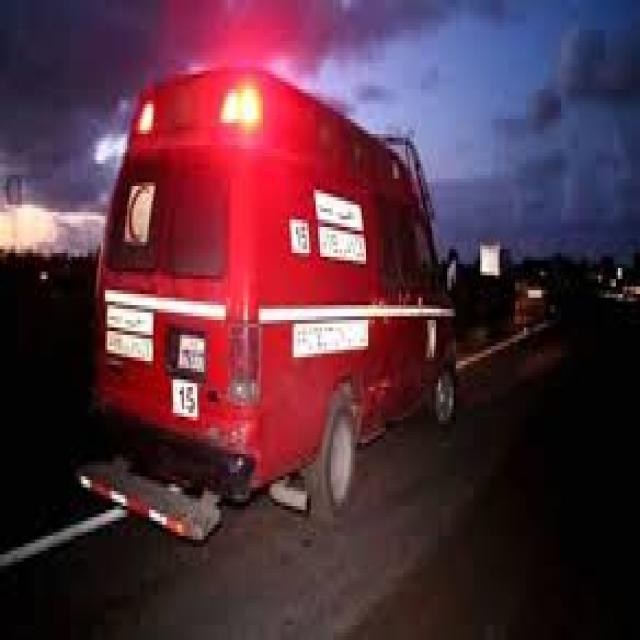ambulance: (72, 56, 463, 552)
